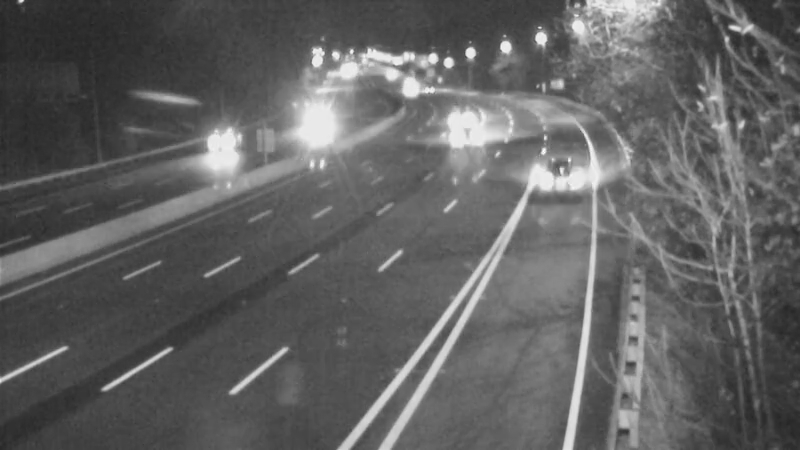vehicle: (517, 133, 597, 213), (385, 59, 435, 109), (401, 62, 451, 112), (385, 65, 435, 115), (428, 99, 478, 149), (443, 108, 493, 158), (196, 120, 246, 170), (289, 105, 339, 155)
